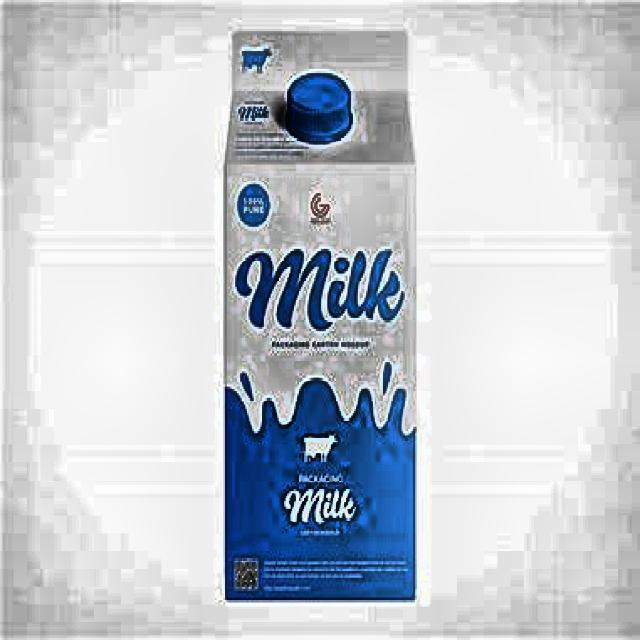cardboard: (222, 29, 416, 600)
